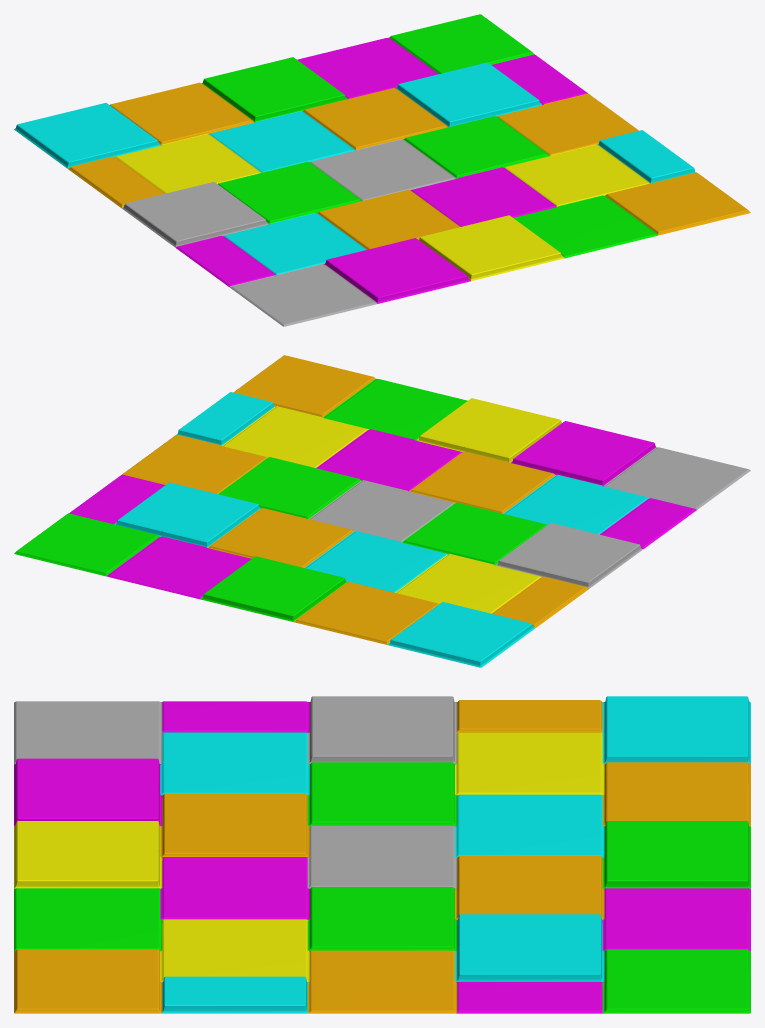
File: marble 1.fbx
3 views of the same model, one above another, from view 1: azimuth 30°, elevation 25°; view 2: azimuth 150°, elevation 25°; view 3: azimuth 270°, elevation 25° (orthographic). The views are drawn at different scales.
Parts seen in each view (by area): view 1: trim_base2; view 2: trim_base2; view 3: trim_base2.
Part boxes in pixels (left/top/right/bottom): trim_base2: left=14, top=14, right=750, bottom=326; trim_base2: left=14, top=355, right=750, bottom=667; trim_base2: left=14, top=696, right=750, bottom=1013.
Size of the model in its own units: 1000 by 11.04 by 1000.
